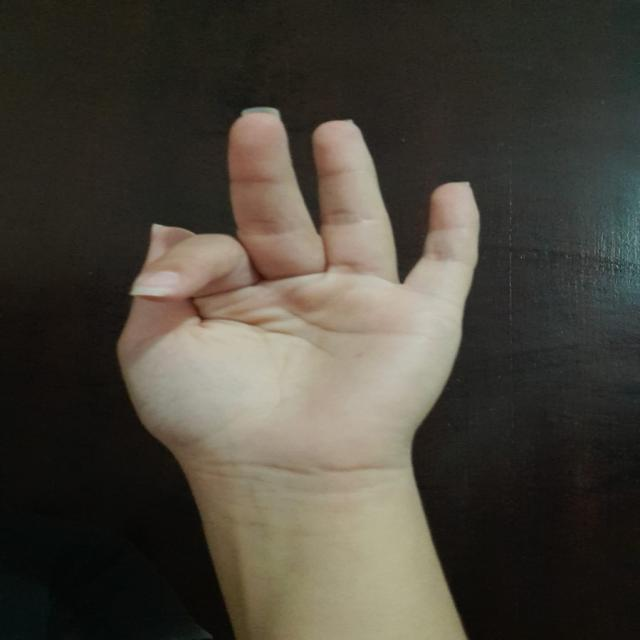F: (89, 106, 491, 466)
